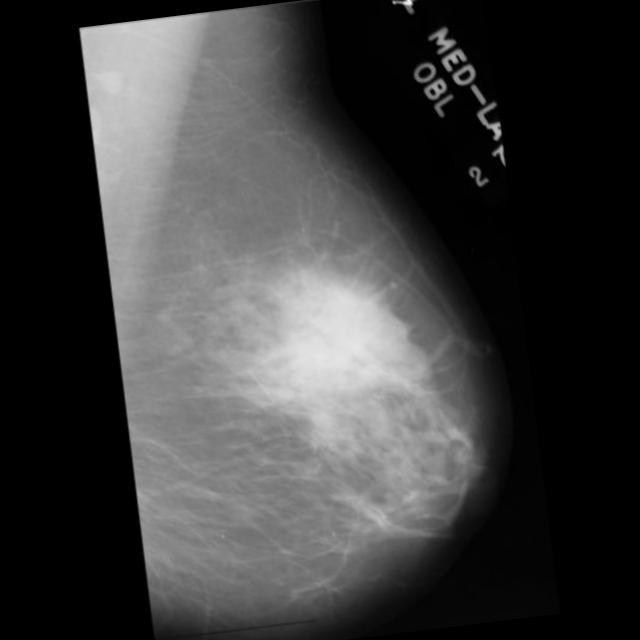ASYM: (244, 252, 426, 434)
